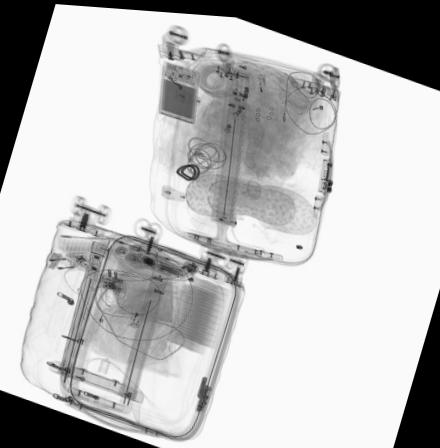Lighter: (254, 69, 271, 103)
